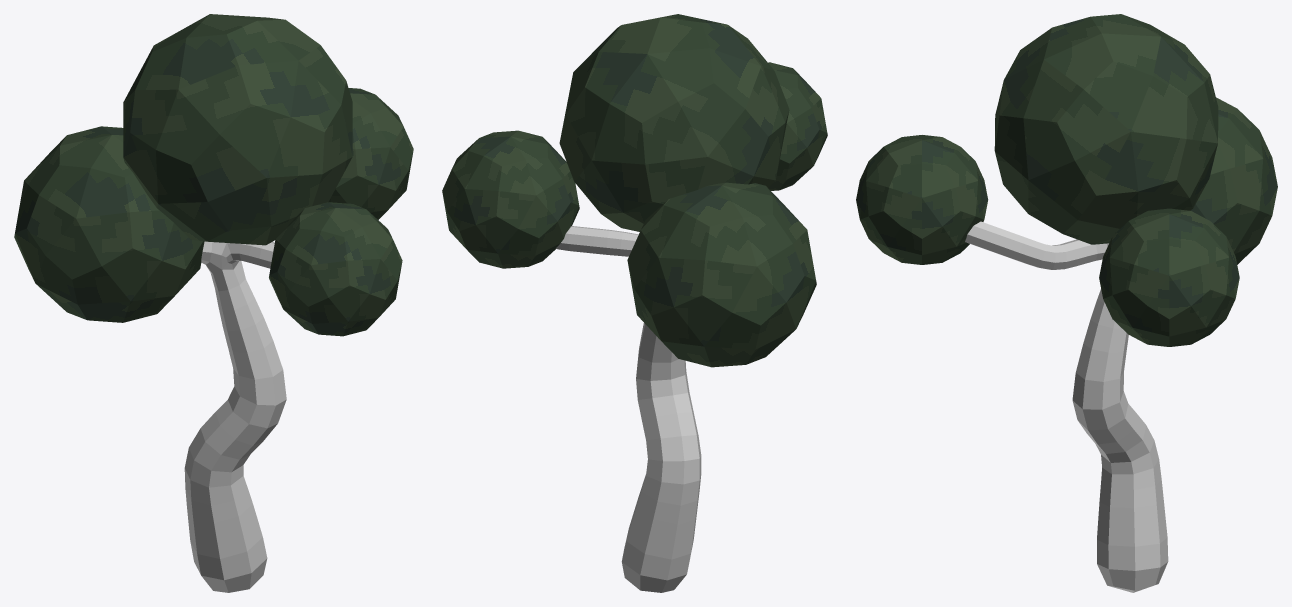
File: Tree.obj
The picture shows the model from 3 angles, left to right: view 1: azimuth 30°, elevation 25°; view 2: azimuth 150°, elevation 25°; view 3: azimuth 270°, elevation 25°; orthographic projection. The views are drawn at different scales.
Visible parts, largest first — view 1: Icosphere.003, Icosphere.002, Cube, Icosphere, Leaves; view 2: Icosphere.003, Icosphere.002, Cube, Leaves, Icosphere; view 3: Icosphere.003, Cube, Leaves, Icosphere, Icosphere.002.
Boxes of the visible parts, x1,y1,x2,y2 form: Icosphere.003: (123,14,352,245); Icosphere.002: (14,126,204,322); Cube: (184,241,286,592); Icosphere: (269,202,402,336); Leaves: (328,88,413,219); Icosphere.003: (559,14,789,231); Icosphere.002: (627,182,816,367); Cube: (556,226,701,592); Leaves: (442,130,579,268); Icosphere: (768,62,827,190); Icosphere.003: (994,14,1218,244); Cube: (965,221,1168,592); Leaves: (1099,208,1239,346); Icosphere: (856,135,988,264); Icosphere.002: (1190,97,1277,264).
Bounding box in the file's own units: 6.25 × 9.27 × 6.31.
